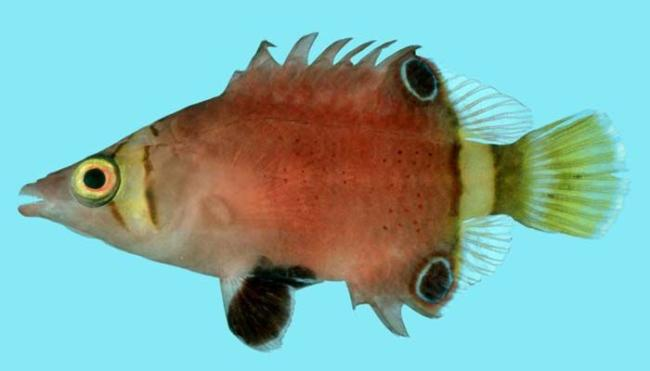fish: (17, 32, 630, 352)
